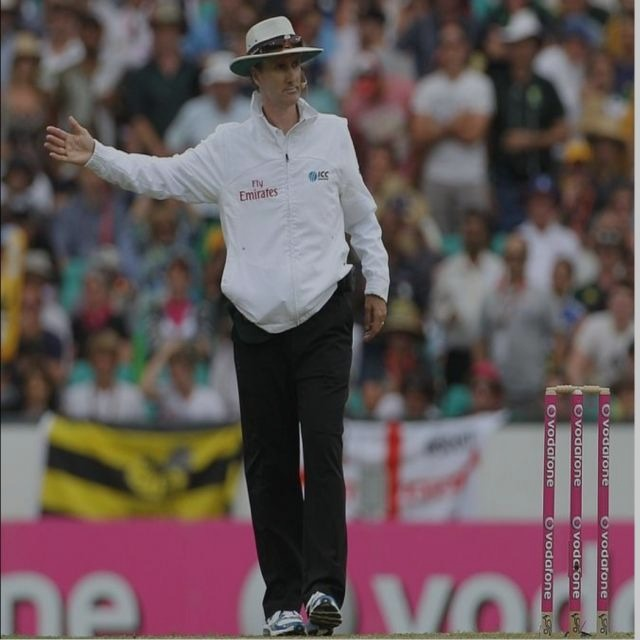No_Ball: (38, 7, 411, 640)
